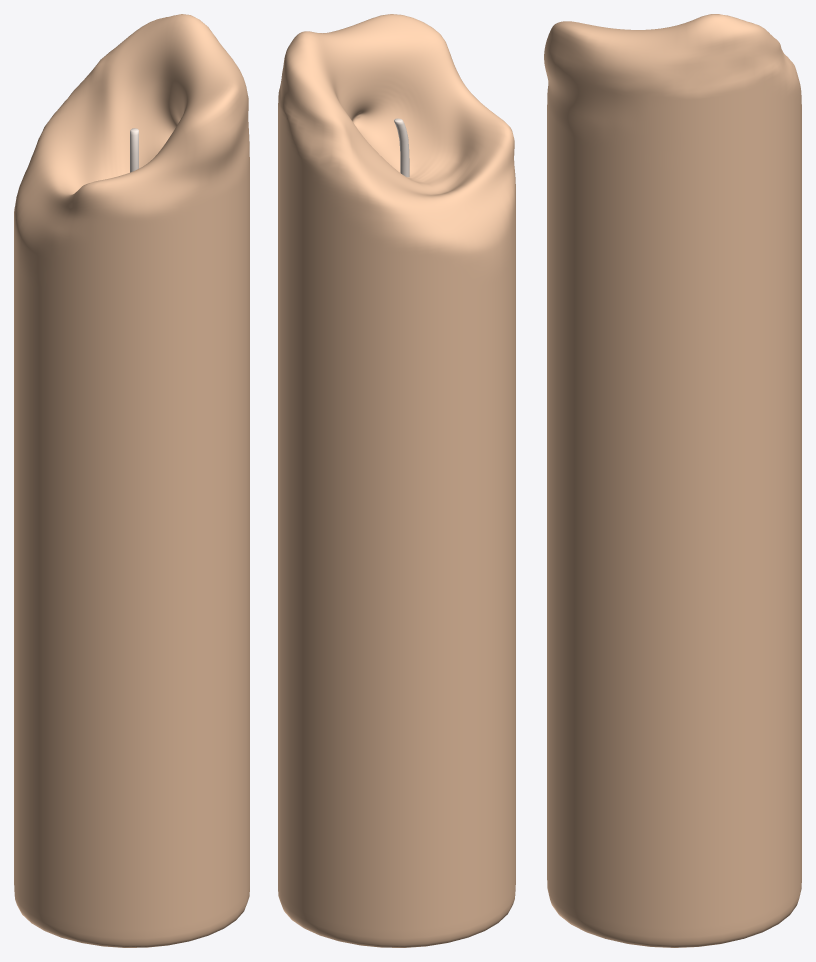
The model's file is candle1.fbx.
The picture shows the model from 3 angles, left to right: view 1: azimuth 30°, elevation 25°; view 2: azimuth 150°, elevation 25°; view 3: azimuth 270°, elevation 25°; orthographic projection. The views are drawn at different scales.
Visible parts, largest first — view 1: candle 1; view 2: candle 1, Cylinder; view 3: candle 1.
Part boxes in pixels (x1,y1,x2,y2): candle 1: [14, 14, 249, 947]; candle 1: [278, 14, 515, 947]; Cylinder: [394, 118, 409, 177]; candle 1: [544, 14, 801, 947].
Bounding box in the file's own units: 10.19 × 40.66 × 10.31.
Materials: 2 (2 with a texture image).
